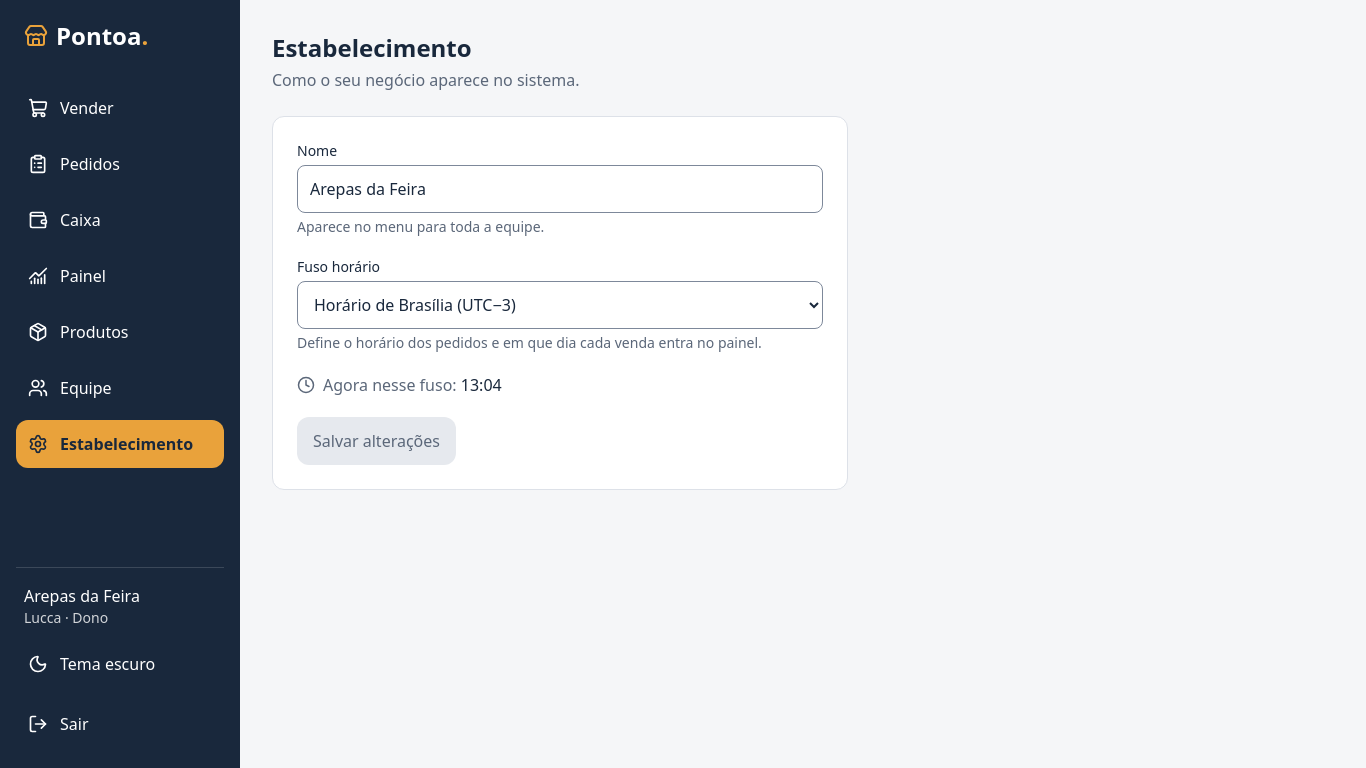
Test: BusinessPage › changes the timezone
Select "Amazonas, MT, MS, RO e RR (UTC−4)" in the dropdown labelled "Fuso horário" at (560, 305), box top-left (297, 281), bottom-right (823, 329)
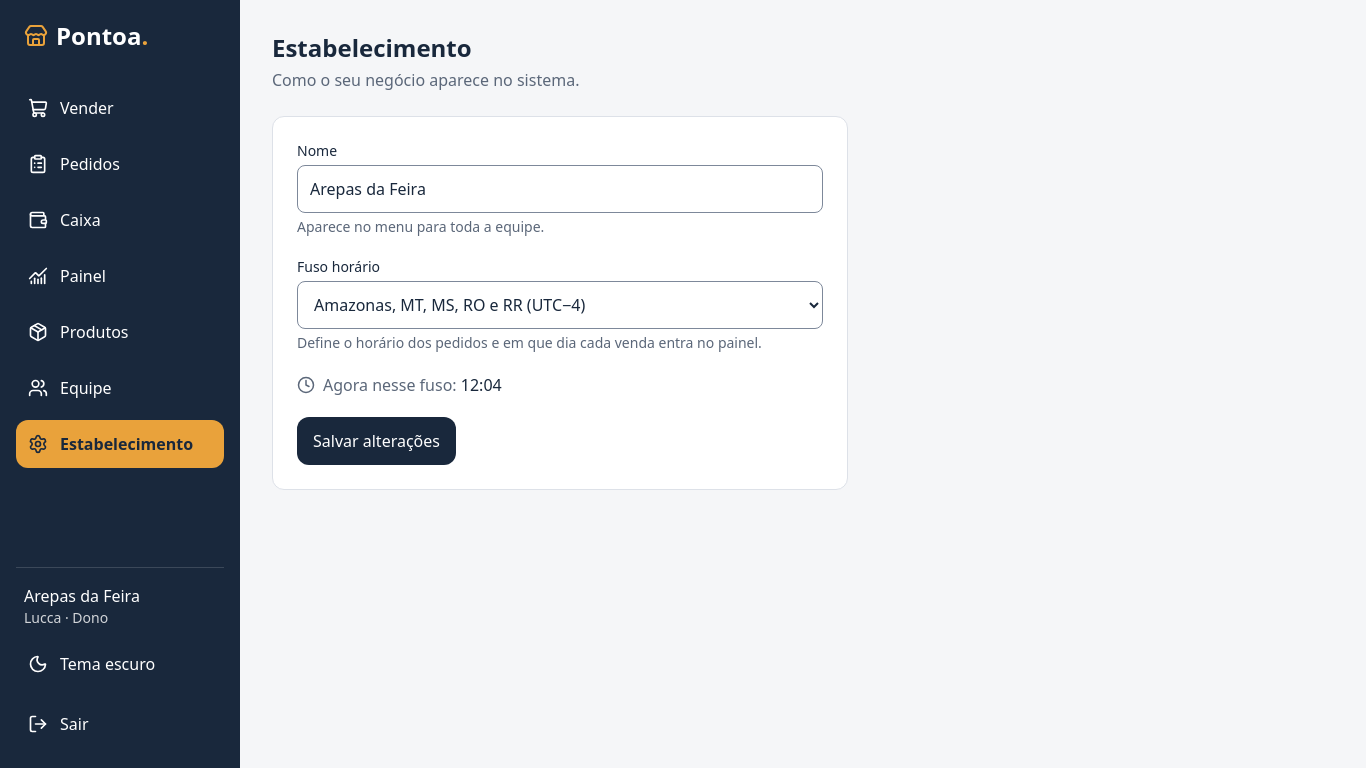
Click the button "Salvar alterações" at (376, 441), box top-left (297, 417), bottom-right (456, 465)
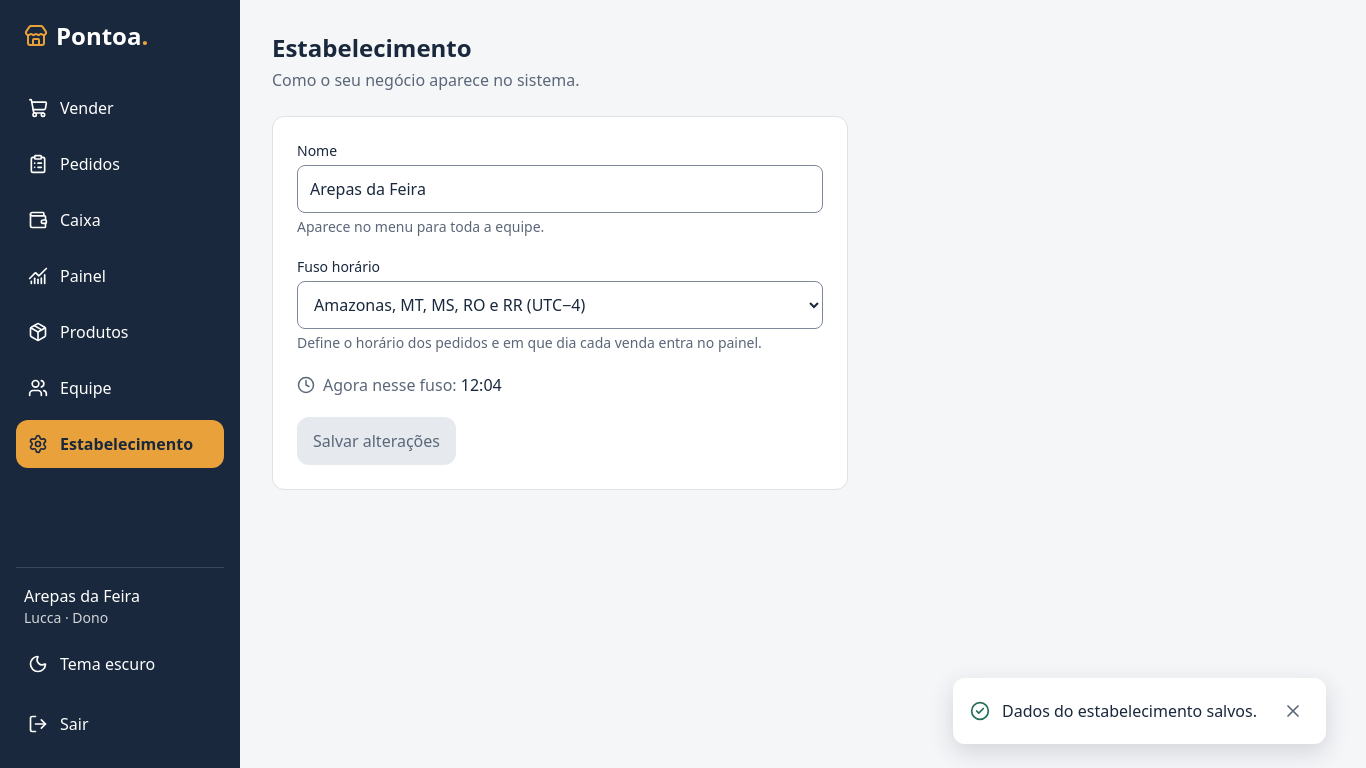
Expected: the text "Dados do estabelecimento salvos." is shown, top-left (1002, 700), bottom-right (1257, 722)
